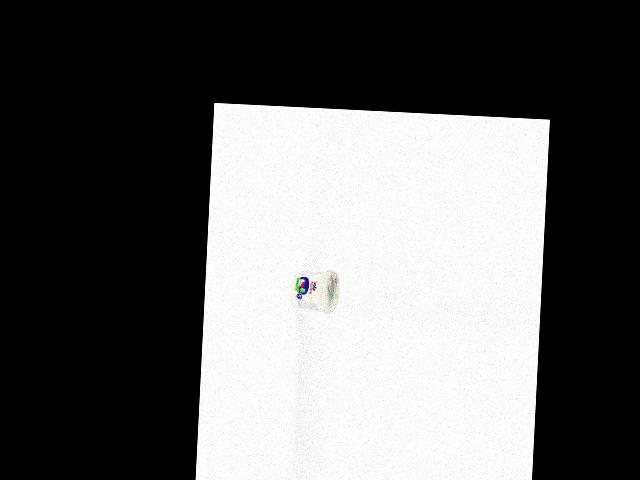cotage: (287, 265, 340, 314)
